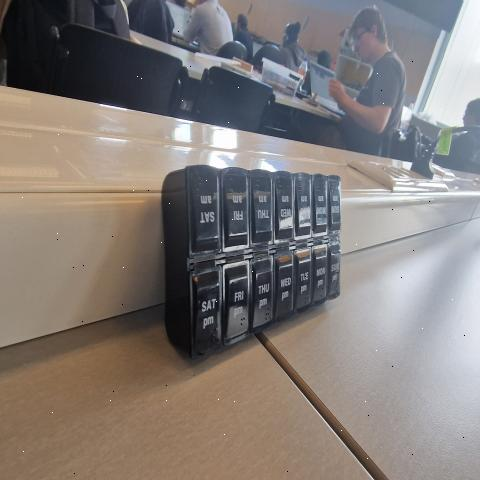PillBox: (141, 155, 368, 363)
